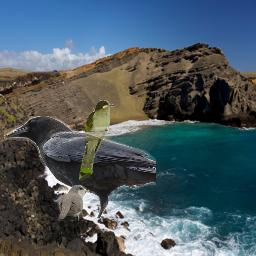Crow: (4, 116, 156, 218)
Cuckoo: (79, 100, 115, 181), (57, 185, 90, 221)
